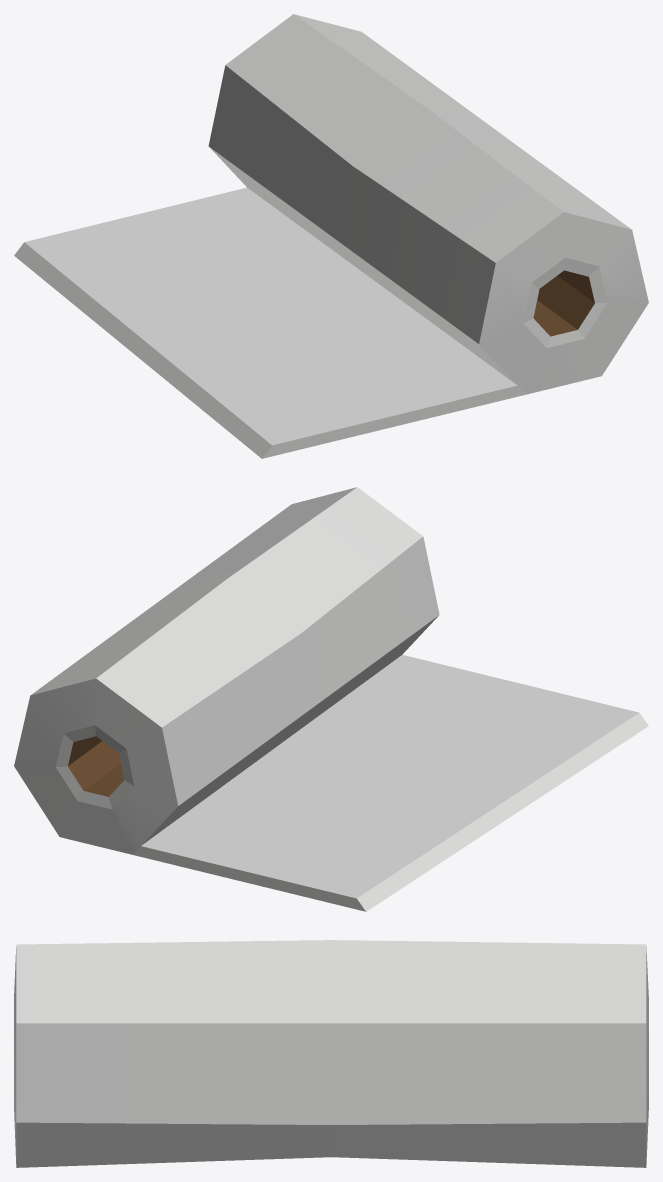
Rendered from resources_fiberglass.fbx.
The picture shows the model from 3 angles, top to bottom: view 1: azimuth 30°, elevation 25°; view 2: azimuth 150°, elevation 25°; view 3: azimuth 270°, elevation 25°; orthographic projection. The views are drawn at different scales.
Visible parts, largest first — view 1: resources_fiberglass; view 2: resources_fiberglass; view 3: resources_fiberglass.
Part boxes in pixels (x1=…): resources_fiberglass: x1=14, y1=14, x2=648, y2=458; resources_fiberglass: x1=14, y1=487, x2=648, y2=911; resources_fiberglass: x1=14, y1=940, x2=648, y2=1167.
Size of the model in its own units: 166 by 71.71 by 200.
